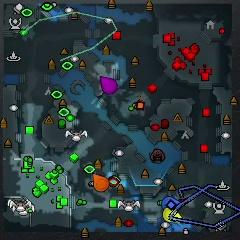p1: (161, 196, 183, 209)
p3: (100, 74, 119, 95)
p4: (162, 208, 182, 223)
p5: (92, 173, 109, 192)
